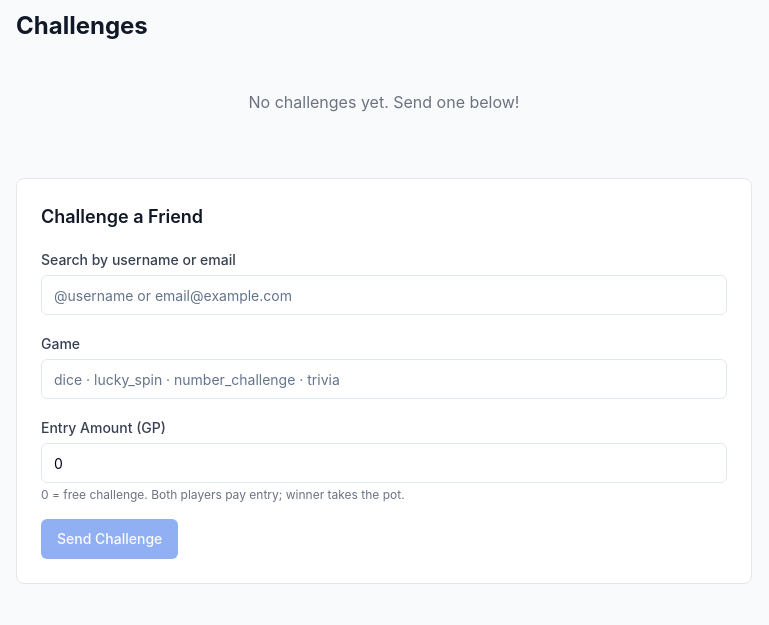
Test: ChallengesPage — search › shows a generic failure message for a non-429 error
The width and height of the screenshot is (769, 625).
Expected: the heading "Challenge a Friend" is shown, [41, 206, 203, 227]
In the field labelled "Search by username or email": (384, 295) [41, 275, 727, 315], type "petestar26"
Wait 300 ms
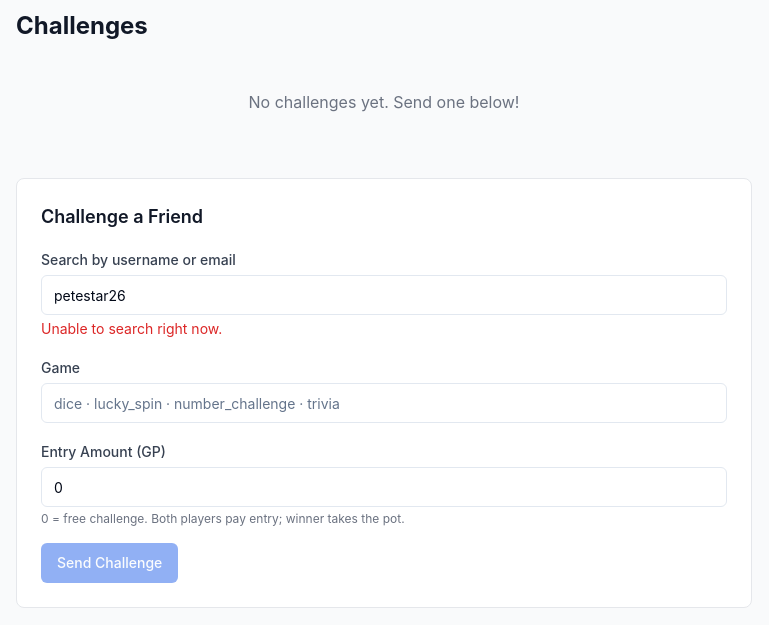
Expected: the text "Unable to search right now." is shown, [41, 320, 222, 337]
